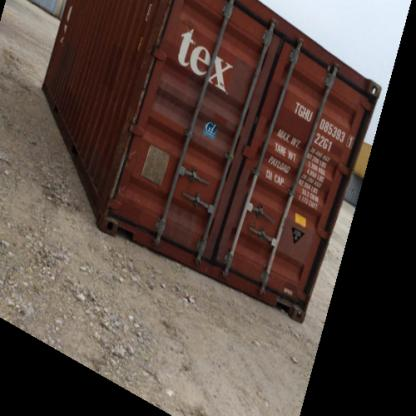Damage: (133, 62, 156, 131), (116, 182, 132, 207), (124, 148, 138, 160)
